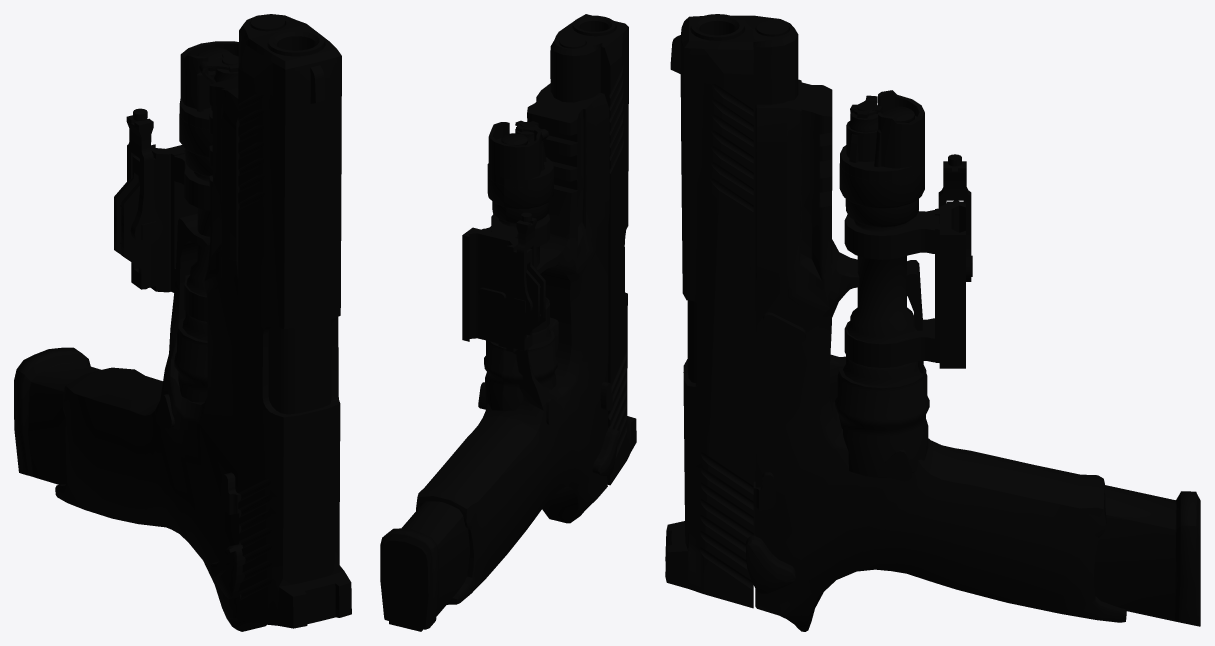
The model's file is SIG_M17__Light_Weapon.fbx.
The picture shows the model from 3 angles, left to right: view 1: azimuth 30°, elevation 25°; view 2: azimuth 150°, elevation 25°; view 3: azimuth 270°, elevation 25°; orthographic projection. The views are drawn at different scales.
Visible parts, largest first — view 1: asset_SIG_M17.001; view 2: asset_SIG_M17.001; view 3: asset_SIG_M17.001.
Boxes of the visible parts, <box> form: asset_SIG_M17.001: <box>14,14,351,631</box>; asset_SIG_M17.001: <box>380,14,636,631</box>; asset_SIG_M17.001: <box>665,14,1200,631</box>.
Bounding box in the file's own units: 0.0229 × 0.1254 × 0.1014.
